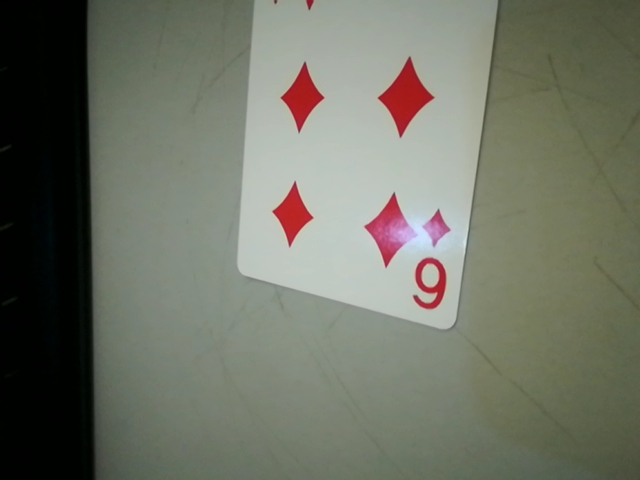fk 6: (404, 204, 458, 321)
